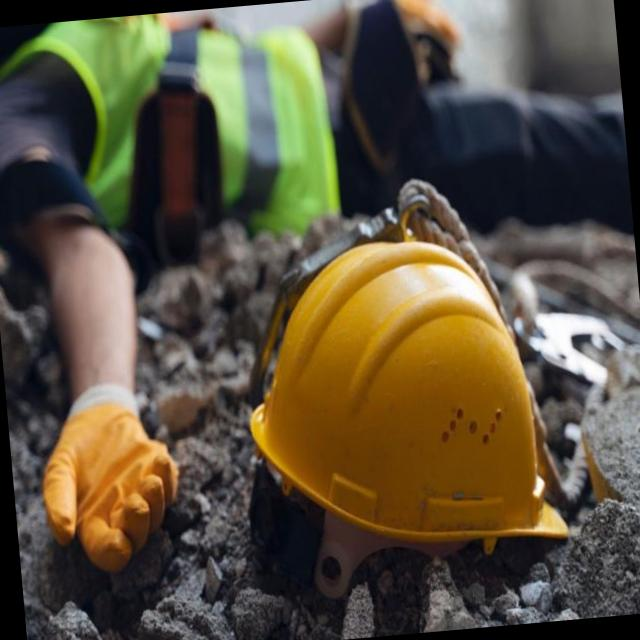Gloves: (40, 370, 198, 576)
Helmet: (244, 204, 583, 596)
Vest: (0, 0, 356, 249)
